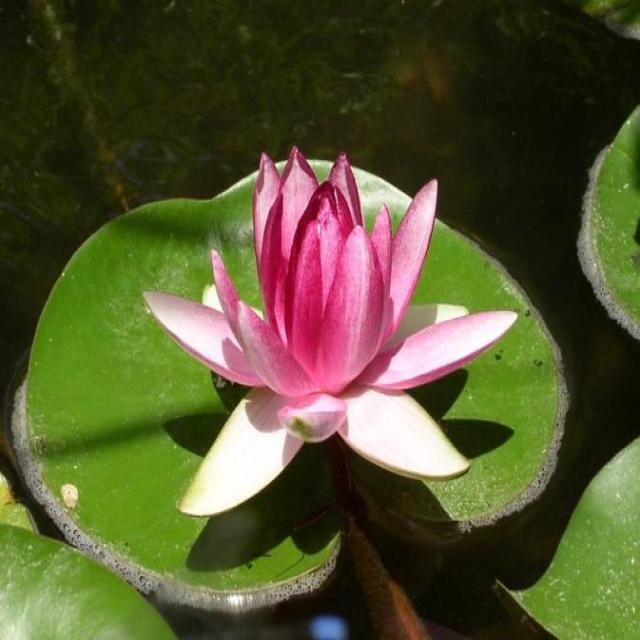water-lily: (141, 127, 464, 509)
